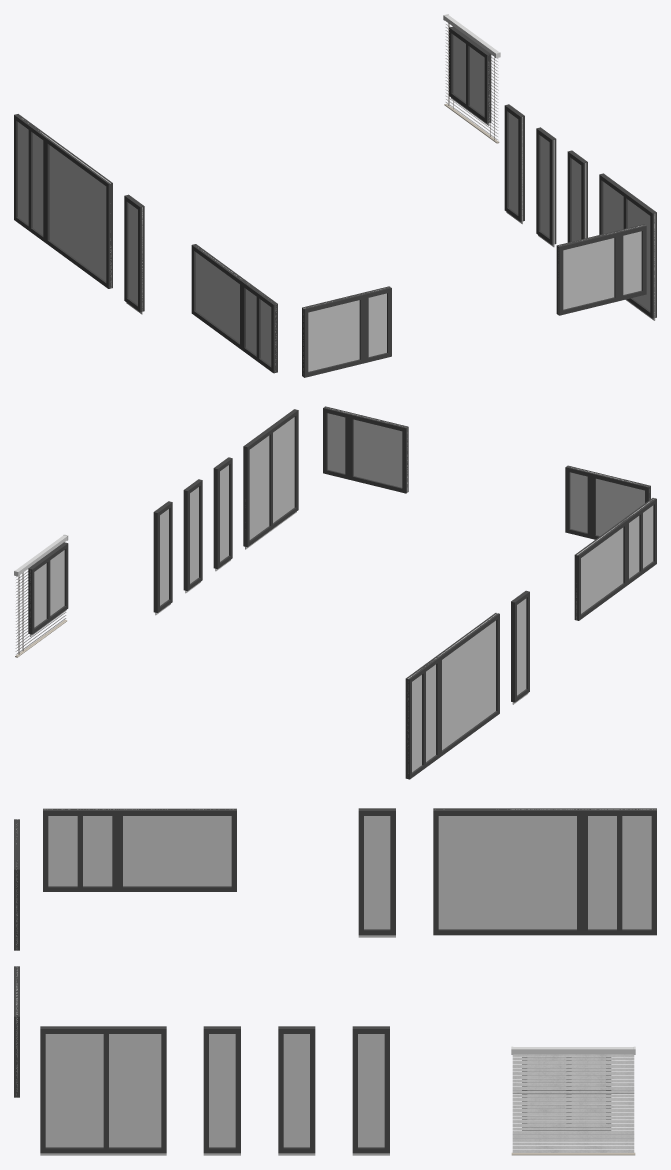
The model's file is OG_Fenster.gltf.
The picture shows the model from 3 angles, top to bottom: view 1: azimuth 30°, elevation 25°; view 2: azimuth 150°, elevation 25°; view 3: azimuth 270°, elevation 25°; orthographic projection. The views are drawn at different scales.
Visible parts, largest first — view 1: TürElement.007, TürElement.008, TürElement.010, TürElement.009, a.004, a.005, Glas.002, Bad.008, Cut_BreakfastOffice.001, Raffstores.001, Cut-Office.003, Bad.010 (+1 smaller); view 2: TürElement.007, TürElement.008, TürElement.009, TürElement.010, Glas.002, a.004, a.005, Cut_BreakfastOffice.001, Bad.008, Raffstores.001, Bad.010, Cut-Office.003 (+1 smaller); view 3: TürElement.007, TürElement.009, Raffstores.001, Glas.002, a.005, a.004, Cut_BreakfastOffice.001, Cut-Office.002, Cut-Office.003, Bad.008, TürElement.008, TürElement.010 (+1 smaller).
Part boxes in pixels (x1,y1,x2,y2): TürElement.007: (14,114,112,288); TürElement.008: (556,224,646,315); TürElement.010: (302,286,391,377); TürElement.009: (191,244,277,373); a.004: (504,104,587,244); a.005: (506,112,586,247); Glas.002: (603,182,655,320); Bad.008: (451,35,489,125); Cut_BreakfastOffice.001: (599,173,656,318); Raffstores.001: (443,14,500,143); Cut-Office.003: (124,194,144,312); Bad.010: (449,26,491,123); TürElement.007: (405,613,499,779); TürElement.008: (323,406,408,493); TürElement.009: (574,498,656,620); TürElement.010: (565,465,650,539); Glas.002: (245,417,296,549); a.004: (153,457,232,612); a.005: (155,465,230,615); Cut_BreakfastOffice.001: (243,409,298,547); Bad.008: (30,550,66,636); Raffstores.001: (14,534,68,657); Bad.010: (28,542,68,634); Cut-Office.003: (511,590,529,702); TürElement.007: (433,808,656,935); TürElement.009: (43,808,236,891); Raffstores.001: (511,1046,635,1155); Glas.002: (40,1034,166,1155); a.005: (203,1034,389,1155); a.004: (203,1026,389,1153); Cut_BreakfastOffice.001: (40,1026,166,1153); Cut-Office.002: (358,816,395,937); Cut-Office.003: (358,808,395,935); Bad.008: (527,1057,605,1123); TürElement.008: (14,966,19,1097); TürElement.010: (14,819,19,950).
Bounding box in the file's own units: 9.73 × 2.44 × 10.78.
3 materials, 1 textured.
